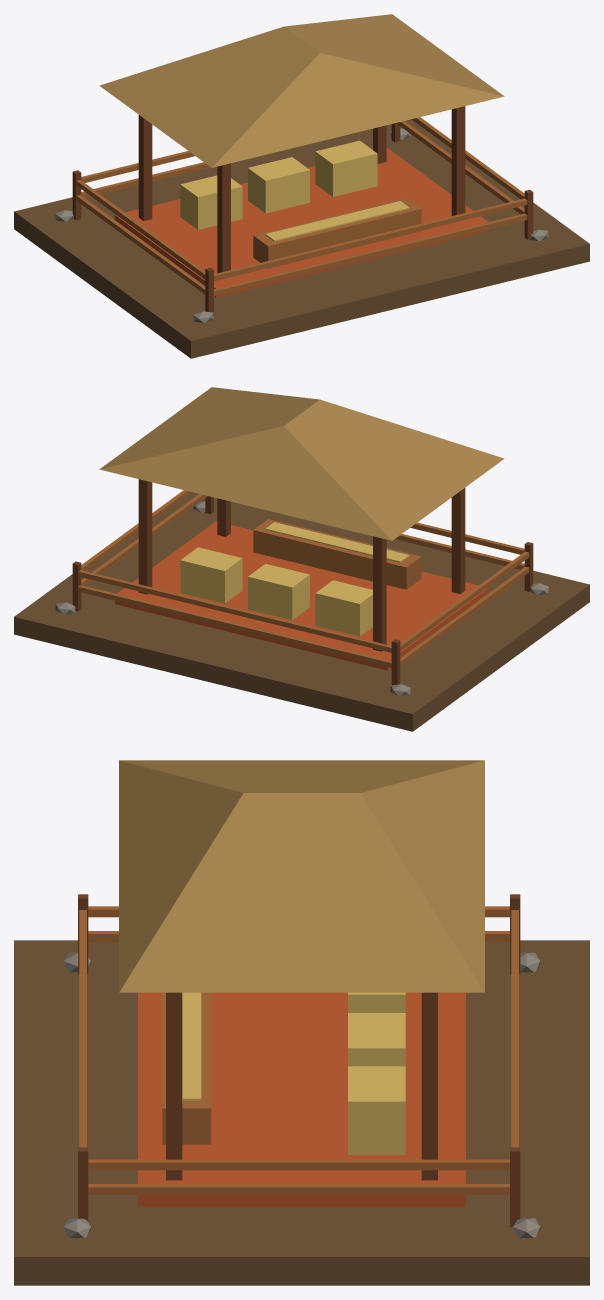
File: cattle_shed.glb
3 views of the same model, one above another, from view 1: azimuth 30°, elevation 25°; view 2: azimuth 150°, elevation 25°; view 3: azimuth 270°, elevation 25° (orthographic). The views are drawn at different scales.
Visible parts, largest first — view 1: Building_Base, CattleShedRoof, CattleShedFloor, FeedTrough, HayBale.002, HayBale.001, CattlePenRail.001, CattlePenRail, HayBale, CattleShedPost.002, CattleShedPost.001, CattleShedPost (+8 smaller); view 2: Building_Base, CattleShedRoof, CattleShedFloor, FeedTrough, HayBale.002, HayBale.001, HayBale, CattlePenRail.002, CattlePenRail.003, CattleShedPost.003, CattleShedPost, CattleShedPost.001 (+9 smaller); view 3: Building_Base, CattleShedRoof, CattleShedFloor, HayBale.002, CattlePenRail.007, CattlePenRail.006, HayBale.001, FeedTrough, CattleShedPost.002, CattleShedPost.003, TroughHollow, CattlePenRail.001 (+5 smaller).
Boxes of the visible parts, bbox=[...] form: Building_Base: bbox=[14, 119, 589, 358]; CattleShedRoof: bbox=[99, 14, 504, 167]; CattleShedFloor: bbox=[115, 148, 488, 297]; FeedTrough: bbox=[253, 198, 421, 268]; HayBale.002: bbox=[315, 140, 377, 196]; HayBale.001: bbox=[248, 157, 309, 213]; CattlePenRail.001: bbox=[214, 198, 527, 281]; CattlePenRail: bbox=[214, 213, 527, 296]; HayBale: bbox=[180, 175, 242, 229]; CattleShedPost.002: bbox=[451, 106, 465, 215]; CattleShedPost.001: bbox=[138, 115, 152, 220]; CattleShedPost: bbox=[217, 163, 230, 273]; Building_Base: bbox=[14, 492, 589, 731]; CattleShedRoof: bbox=[99, 387, 504, 540]; CattleShedFloor: bbox=[115, 521, 488, 670]; FeedTrough: bbox=[253, 519, 421, 589]; HayBale.002: bbox=[180, 547, 242, 603]; HayBale.001: bbox=[248, 563, 309, 620]; HayBale: bbox=[315, 580, 372, 636]; CattlePenRail.002: bbox=[78, 585, 391, 667]; CattlePenRail.003: bbox=[78, 570, 391, 652]; CattleShedPost.003: bbox=[138, 479, 152, 594]; CattleShedPost: bbox=[451, 488, 465, 593]; CattleShedPost.001: bbox=[373, 536, 386, 651]; Building_Base: bbox=[14, 940, 589, 1285]; CattleShedRoof: bbox=[119, 760, 484, 992]; CattleShedFloor: bbox=[138, 992, 465, 1206]; HayBale.002: bbox=[348, 1066, 405, 1154]; CattlePenRail.007: bbox=[88, 1159, 509, 1170]; CattlePenRail.006: bbox=[88, 1184, 509, 1194]; HayBale.001: bbox=[348, 1013, 405, 1066]; FeedTrough: bbox=[162, 992, 211, 1144]; CattleShedPost.002: bbox=[166, 992, 182, 1180]; CattleShedPost.003: bbox=[421, 992, 437, 1180]; TroughHollow: bbox=[182, 992, 201, 1100]; CattlePenRail.001: bbox=[79, 910, 86, 1147].
Bounding box in the file's own units: 13 × 6.4 × 10.
